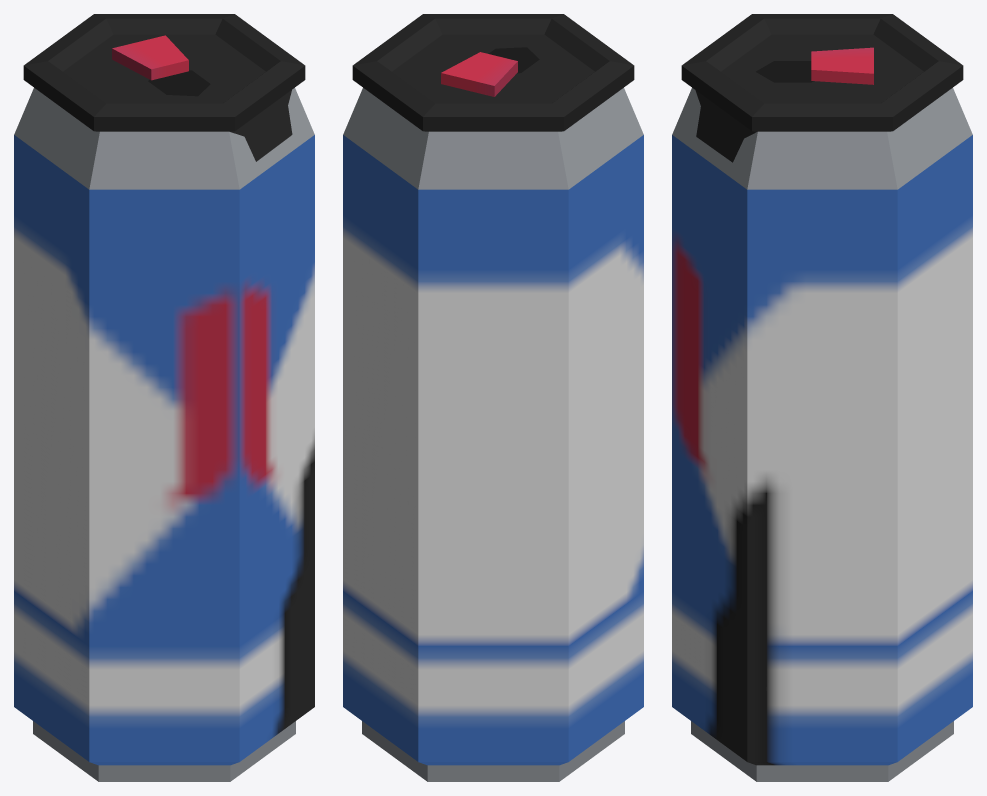
File: SM_Prop_Drink_02.fbx
3 renders of one model, left to right at view 1: azimuth 30°, elevation 25°; view 2: azimuth 150°, elevation 25°; view 3: azimuth 270°, elevation 25°, orthographic.
Visible parts, largest first — view 1: SM_Prop_Drink_02; view 2: SM_Prop_Drink_02; view 3: SM_Prop_Drink_02.
Boxes of the visible parts, x1,y1,x2,y2 form: SM_Prop_Drink_02: (14, 14, 314, 781); SM_Prop_Drink_02: (343, 14, 643, 781); SM_Prop_Drink_02: (672, 14, 972, 781).
Size of the model in its own units: 7.77 by 22.15 by 8.97.
